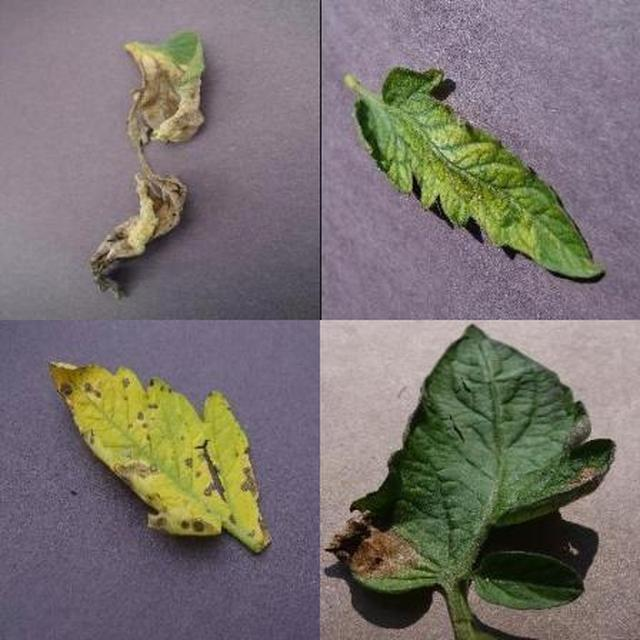Late Blight Leaf: (170, 234, 640, 640)
